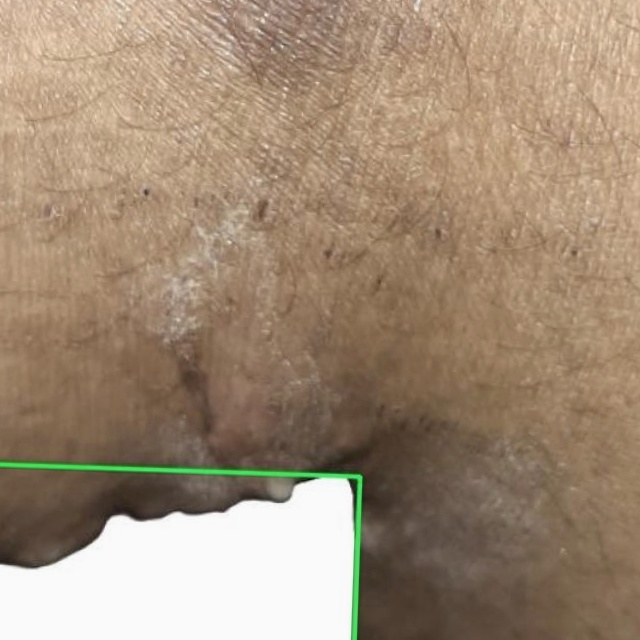Contact Dermatitis: (0, 464, 360, 639)
